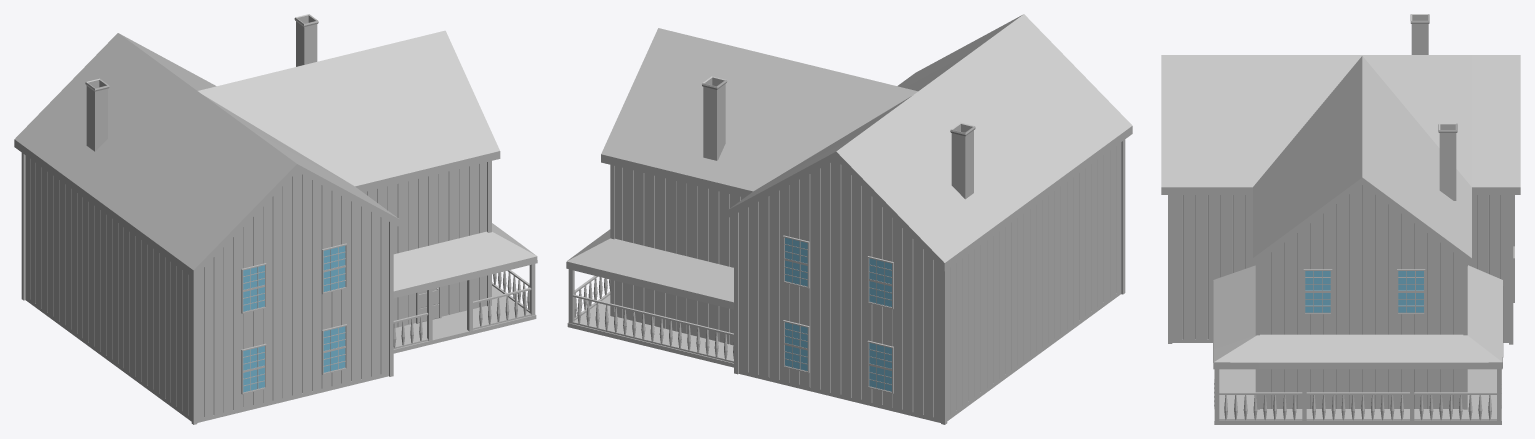
Rendered from House_09.gltf.
3 views of the same model, side by side, from view 1: azimuth 30°, elevation 25°; view 2: azimuth 150°, elevation 25°; view 3: azimuth 270°, elevation 25° (orthographic). The views are drawn at different scales.
Visible parts, largest first — view 1: Hous_09; view 2: Hous_09; view 3: Hous_09.
Boxes of the visible parts, left/top/right/bottom form: Hous_09: left=14, top=14, right=537, bottom=424; Hous_09: left=566, top=14, right=1132, bottom=424; Hous_09: left=1161, top=14, right=1520, bottom=424.
Bounding box in the file's own units: 15.08 × 9.42 × 12.64.
